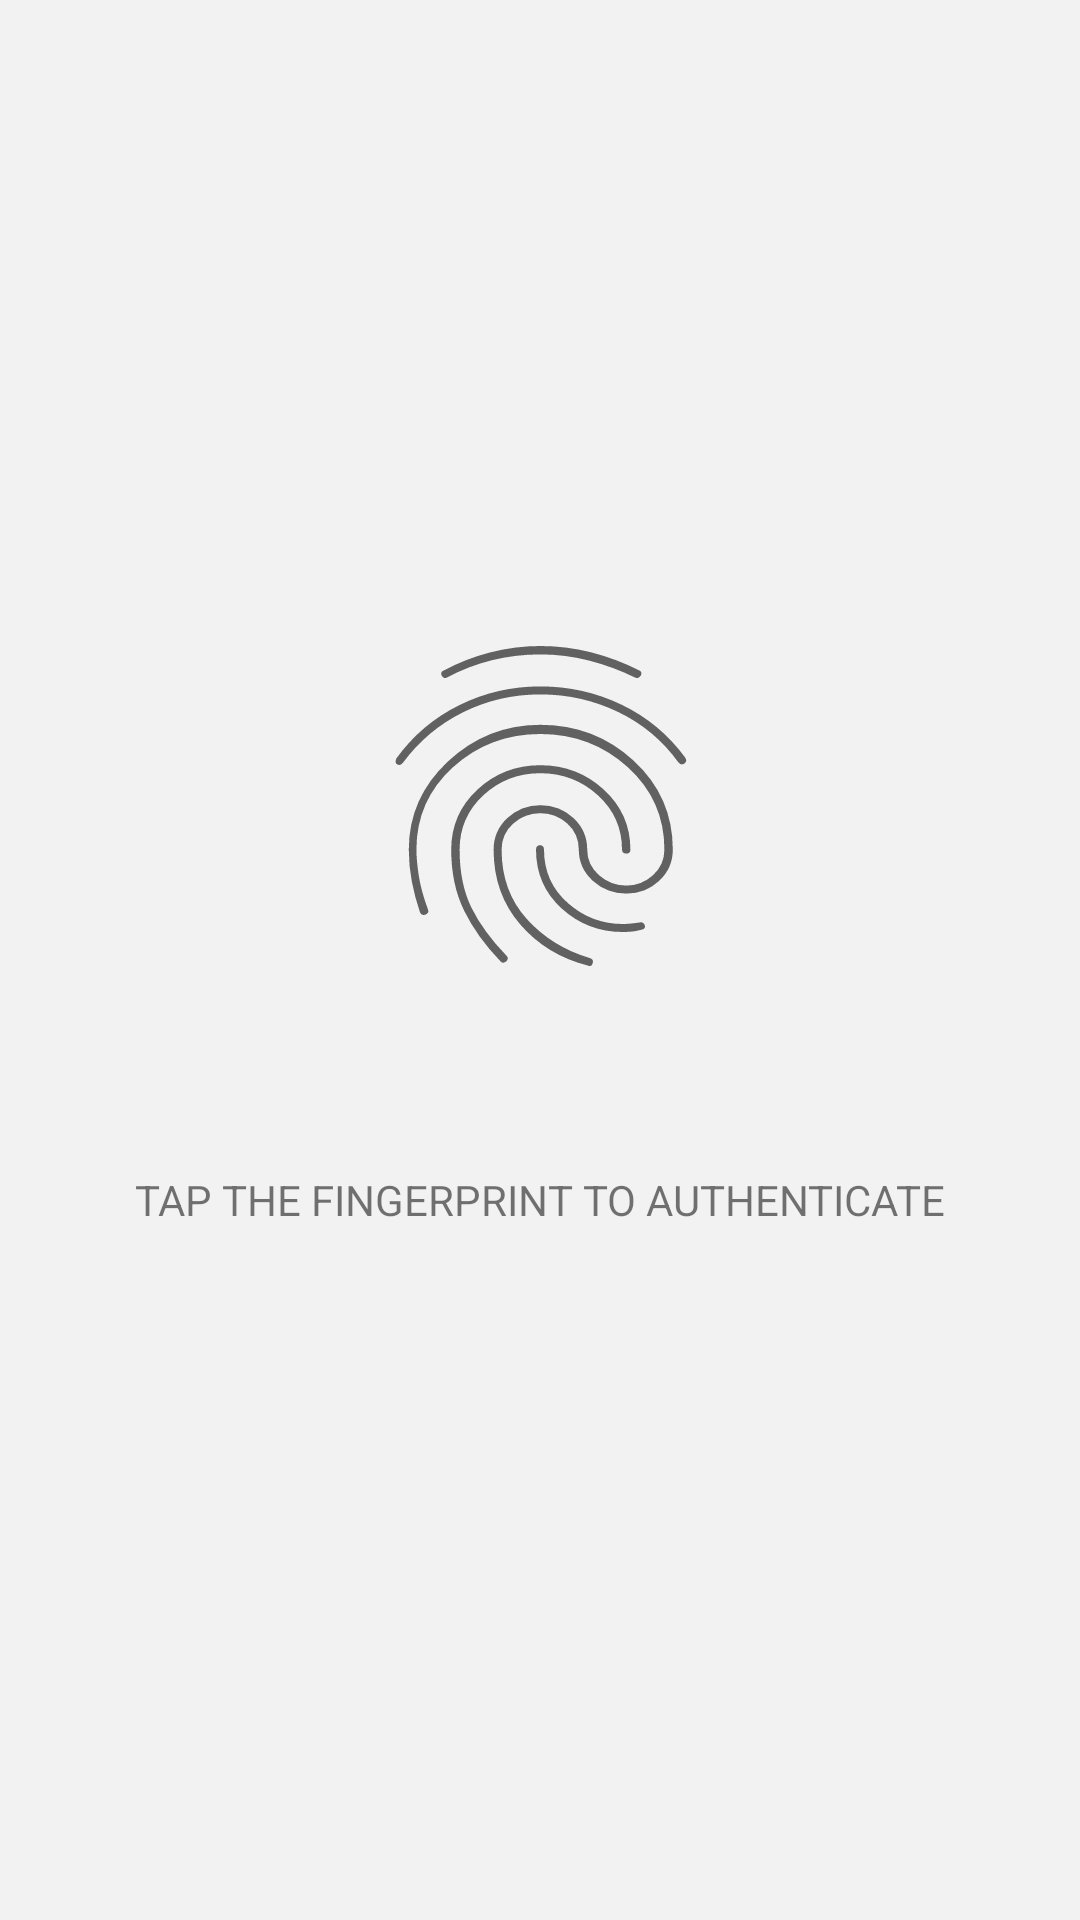

Locate icon controls on the screen. Image size 1080×1920, boxes as (x1, y1, x2, y2).
fingerprint: (395, 646, 687, 966)
